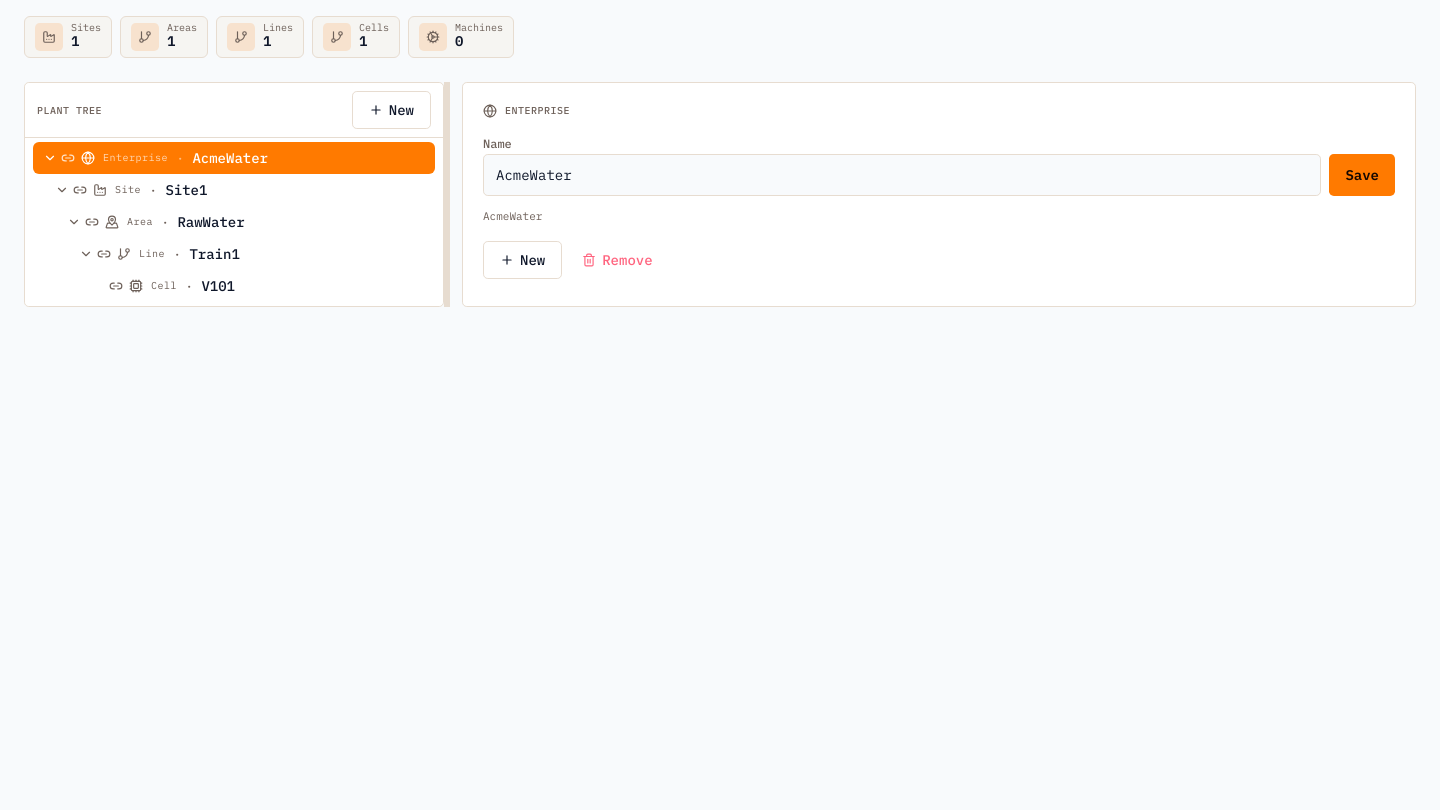
the plant hierarchy editor › removes the node only after confirm
Click the button with aria-label "Cell V101" at coordinates (218, 286), box [125, 270, 435, 302]
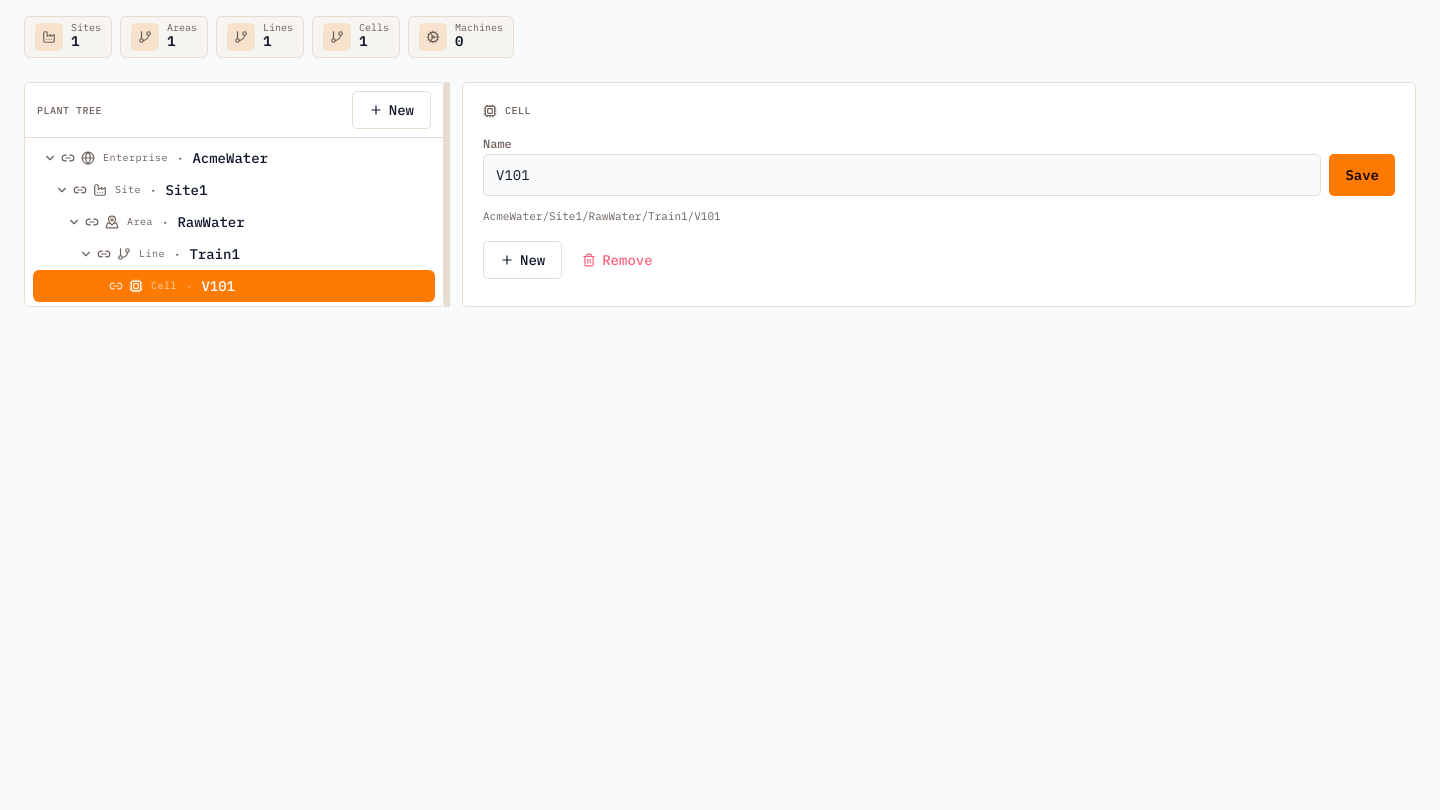
Click the button "Remove" at coordinates (617, 260), box [570, 240, 665, 278]
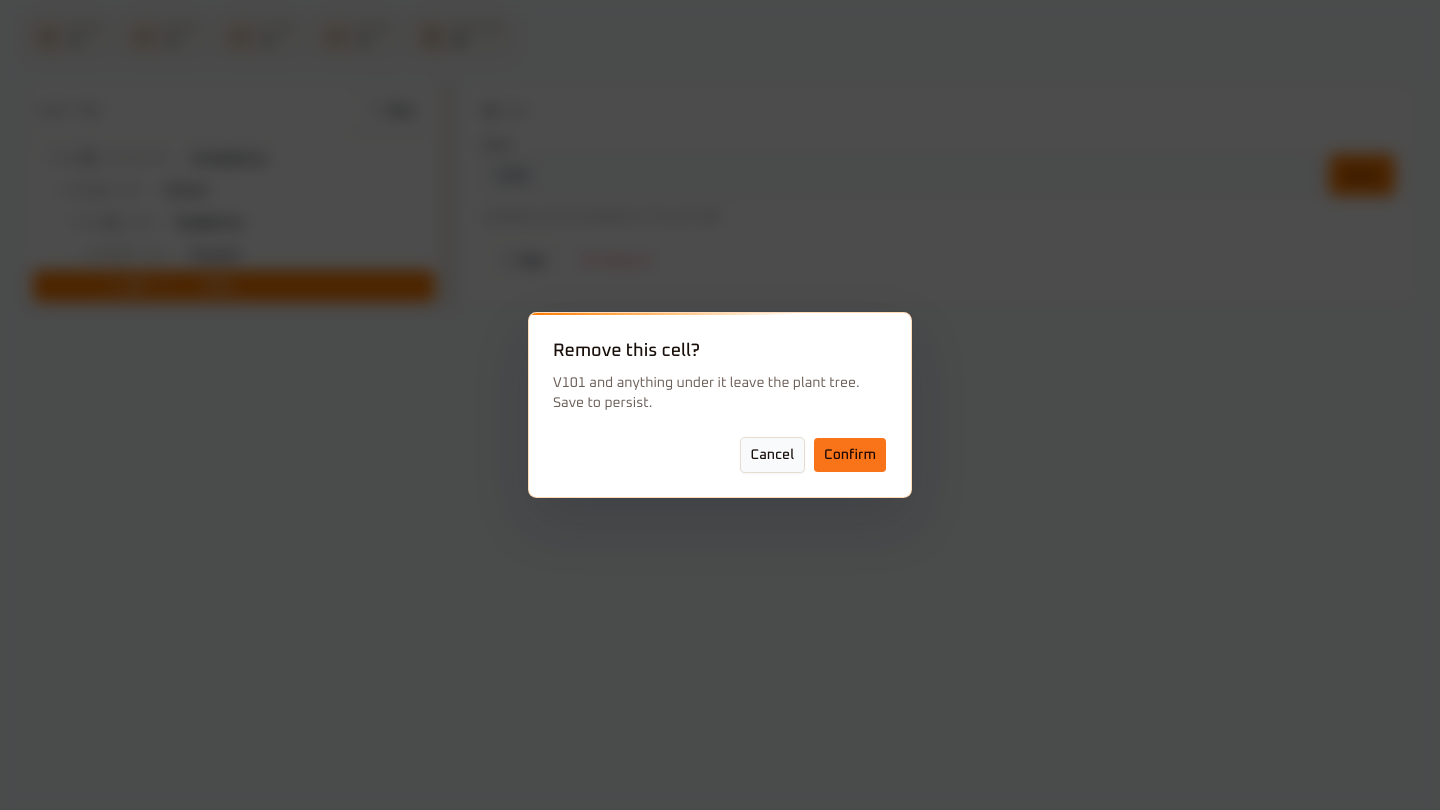
Click the button "Confirm" at coordinates (850, 455), box [813, 437, 887, 473]
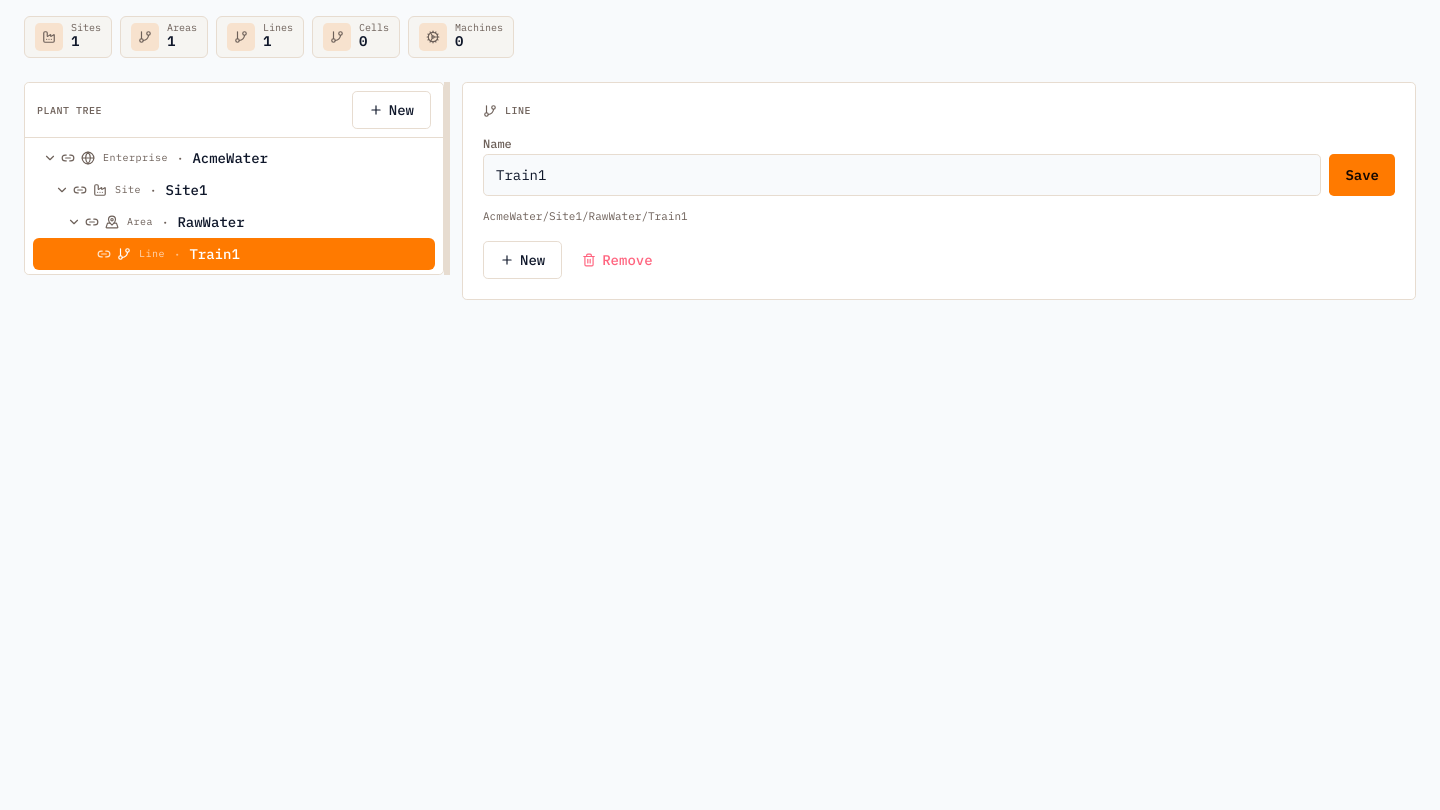
Expected: the button with aria-label "Line Train1" is shown, [113, 238, 435, 270]
Result: the button "Cell V101" is gone
